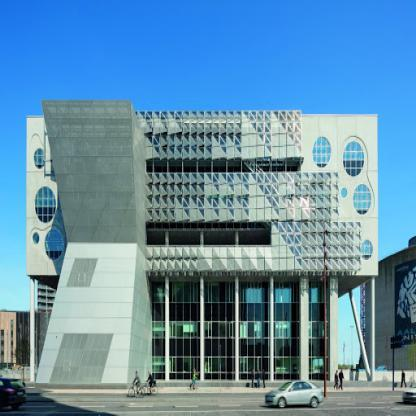Building Outline: (25, 99, 379, 391)
Facade: (26, 99, 380, 391)
Pillar: (348, 276, 375, 380), (299, 277, 310, 381), (328, 275, 338, 379), (199, 231, 203, 380), (165, 231, 169, 380), (235, 231, 239, 380), (270, 231, 274, 380), (30, 276, 35, 382)
Window: (151, 281, 328, 302), (49, 334, 113, 384), (152, 356, 327, 373), (152, 321, 328, 337), (66, 259, 98, 287)
